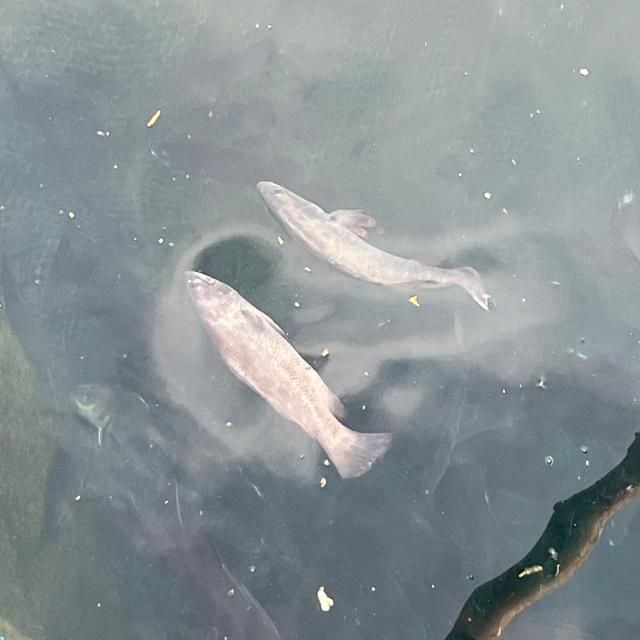ikan: (156, 228, 384, 513), (253, 158, 533, 322)
